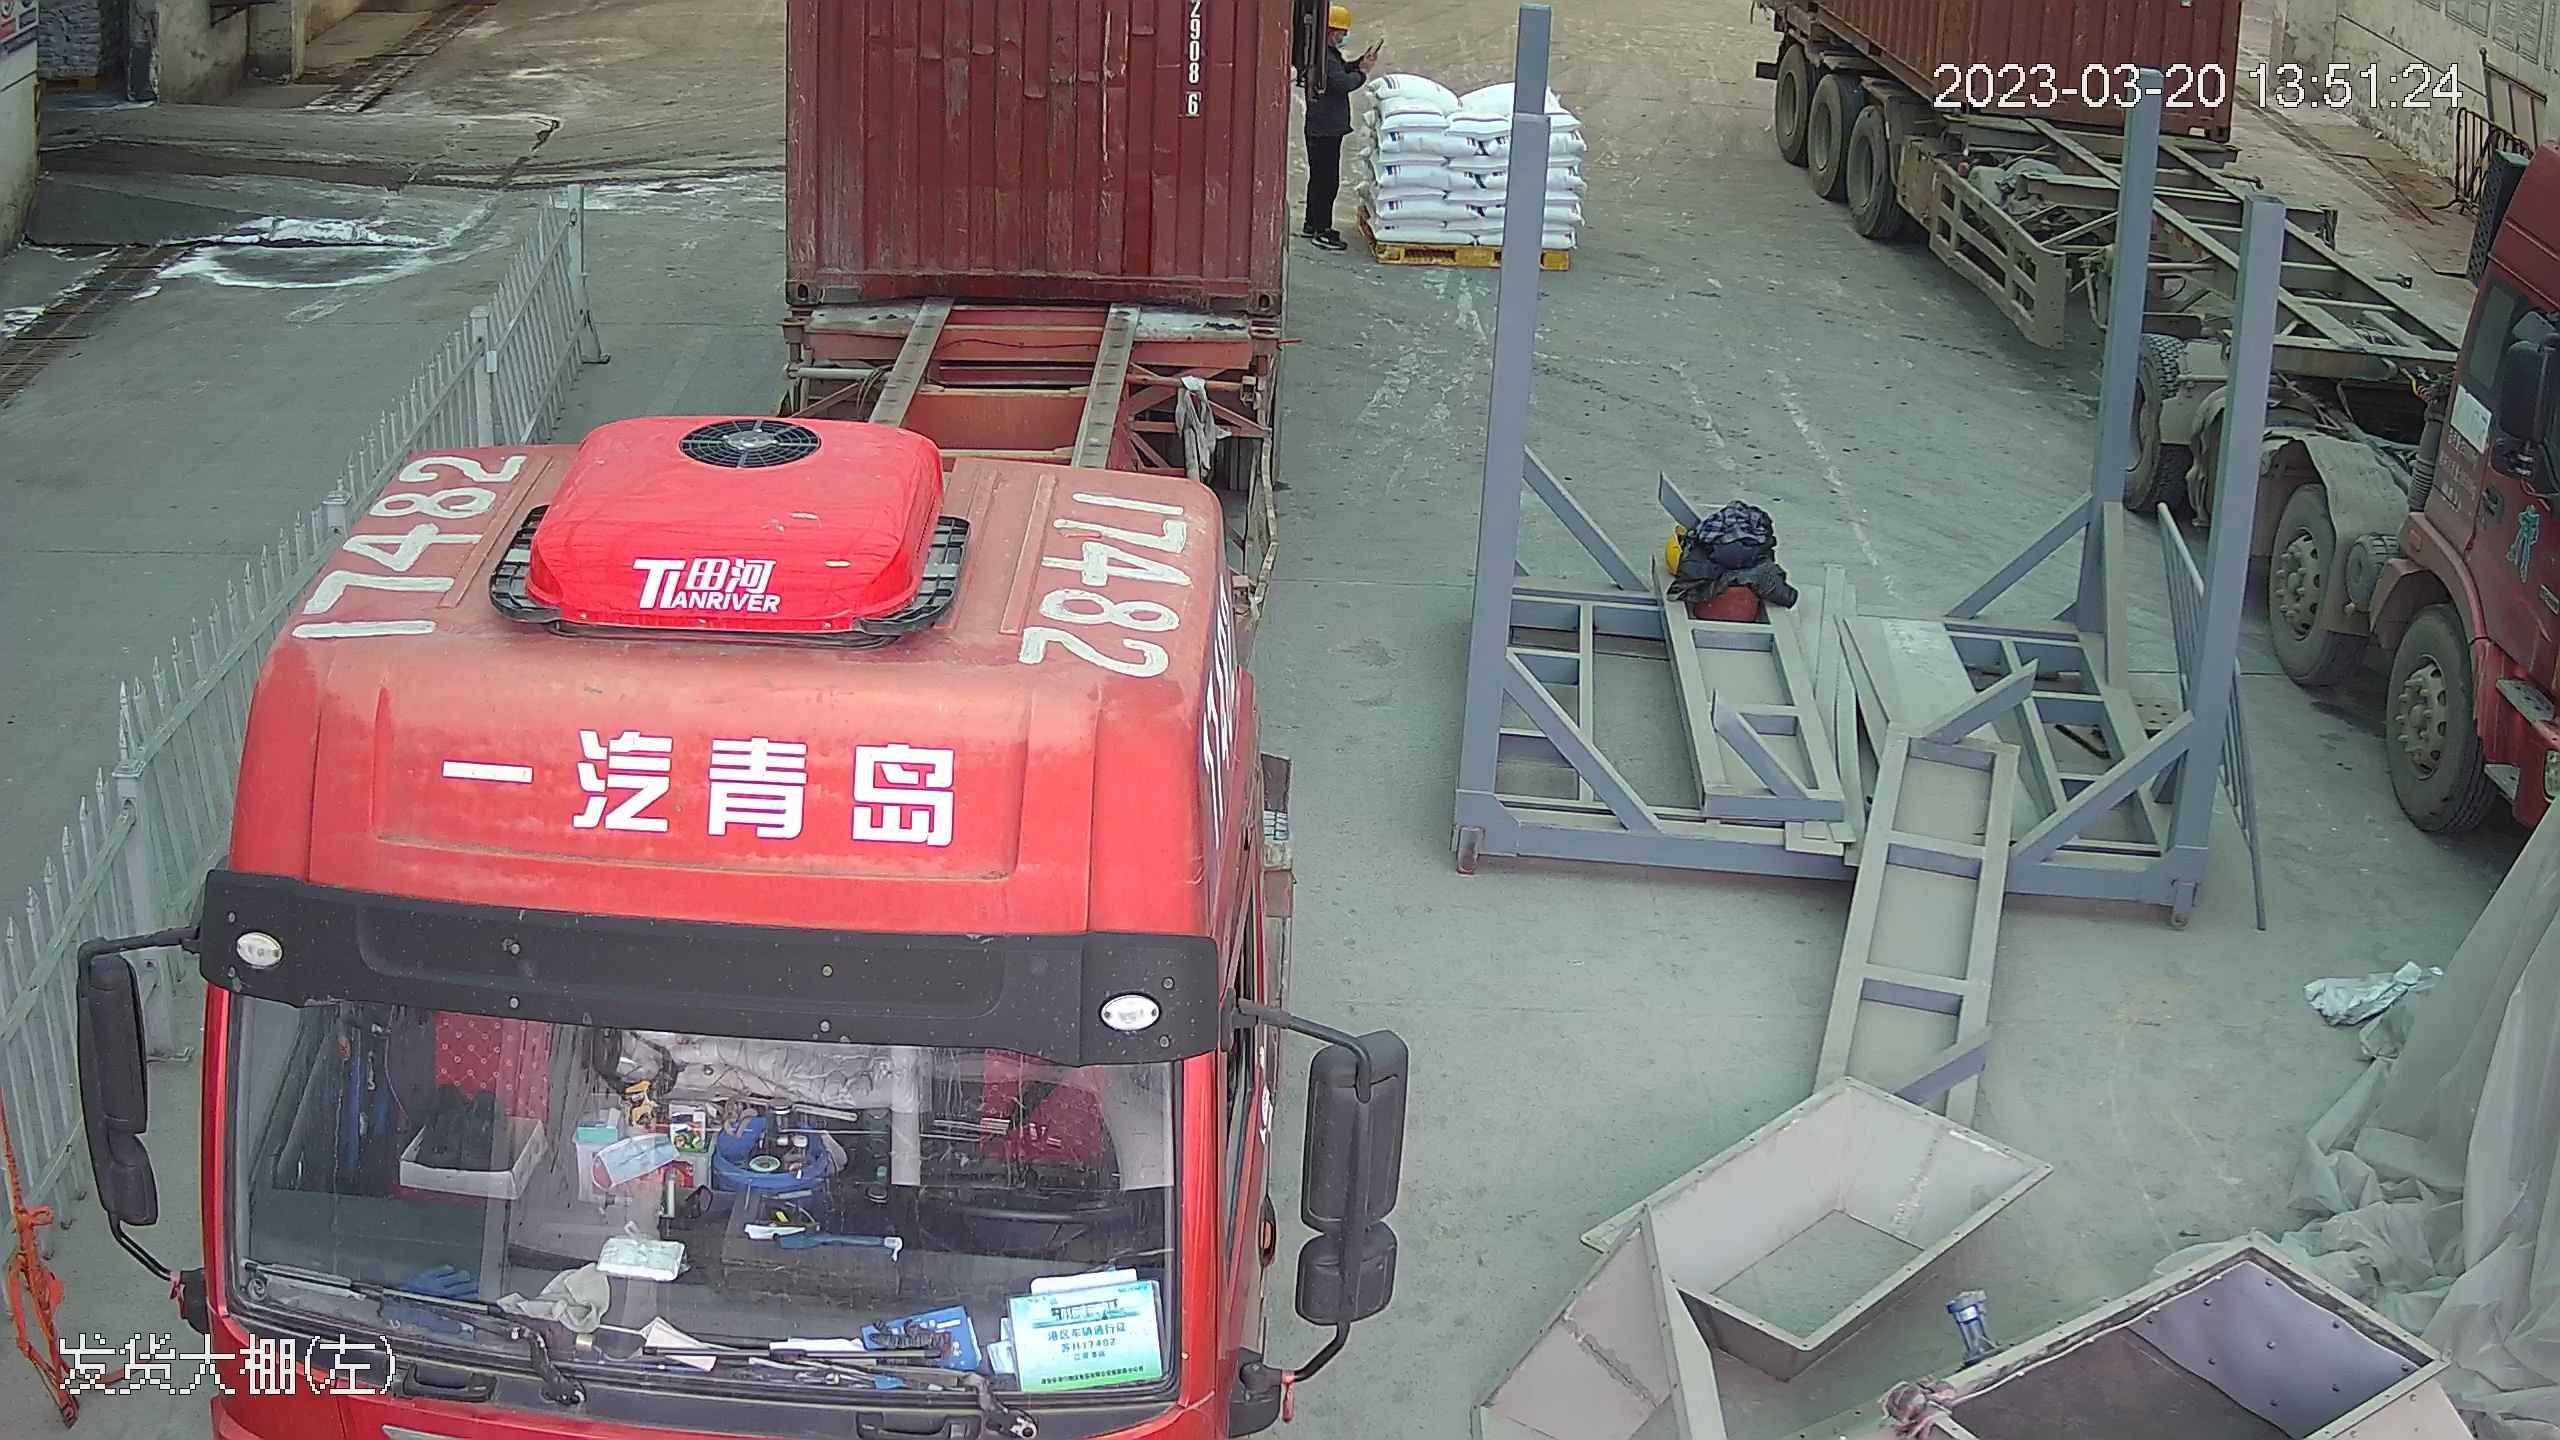head: (1313, 3, 1359, 59)
helmet: (1326, 2, 1354, 25)
people: (1298, 2, 1368, 243)
truck: (76, 0, 1310, 1440)
